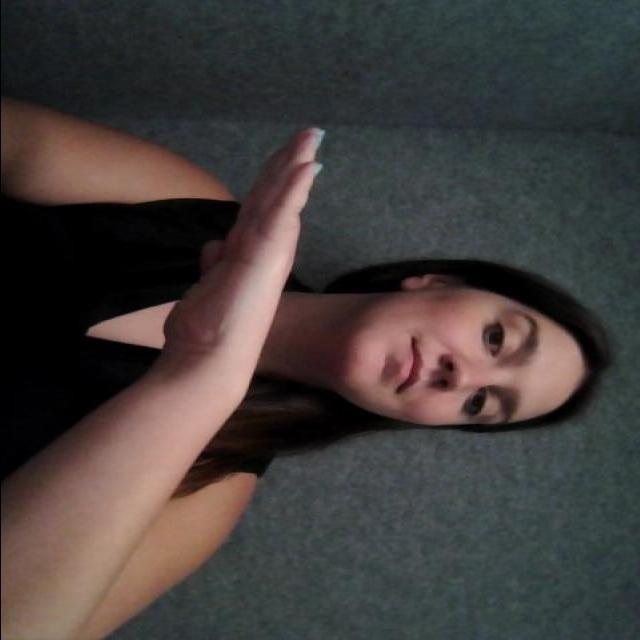Paper: (180, 96, 348, 370)
